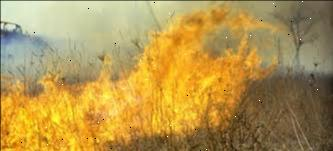fire: (0, 0, 263, 149)
